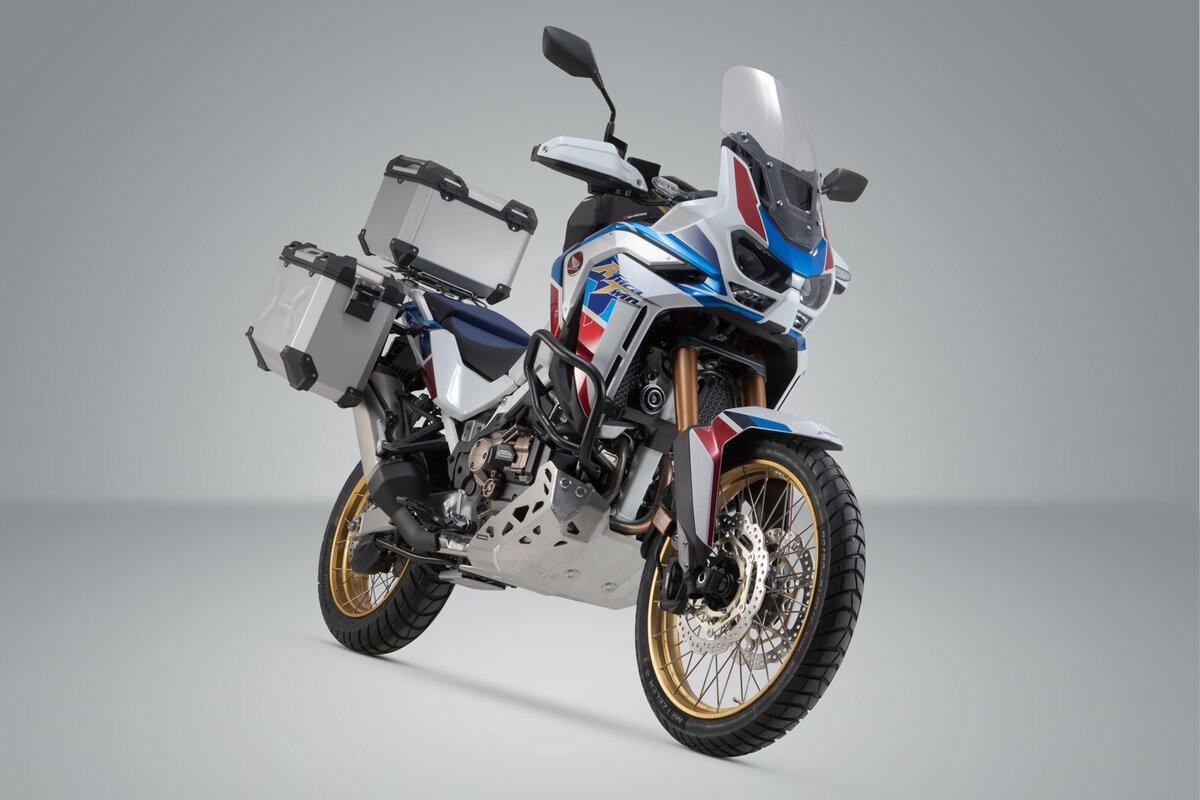engine-chasis: (394, 381, 676, 610)
exhaust: (352, 383, 475, 556), (371, 370, 440, 440), (599, 434, 629, 505)
frontside: (508, 65, 852, 614)
handlebar: (530, 24, 680, 208), (823, 167, 868, 203), (831, 246, 848, 271), (834, 278, 850, 296)
motorbike: (245, 25, 868, 757)
rearside: (347, 504, 397, 541)
seat: (423, 291, 530, 381)
tank: (550, 194, 671, 348)
wheel: (635, 428, 867, 757), (318, 459, 458, 656), (373, 538, 457, 568), (697, 369, 737, 408), (655, 536, 665, 579), (662, 361, 673, 382)
